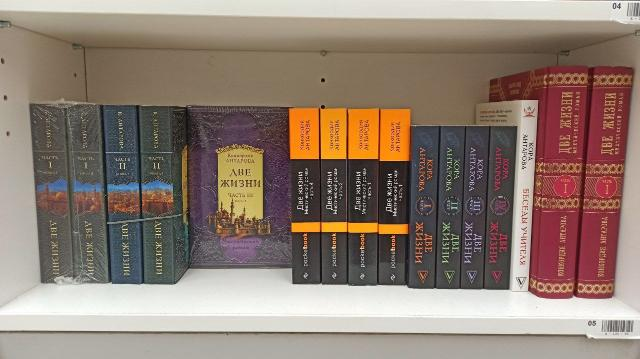book-s-spine: (577, 66, 633, 298), (537, 66, 588, 298), (30, 104, 73, 284), (66, 104, 109, 283), (103, 105, 142, 284), (139, 106, 174, 285), (379, 109, 410, 286), (349, 109, 379, 286), (485, 127, 517, 290), (290, 108, 319, 284), (409, 126, 439, 289), (513, 100, 538, 292), (437, 126, 465, 290), (461, 126, 489, 290), (321, 109, 346, 285)
